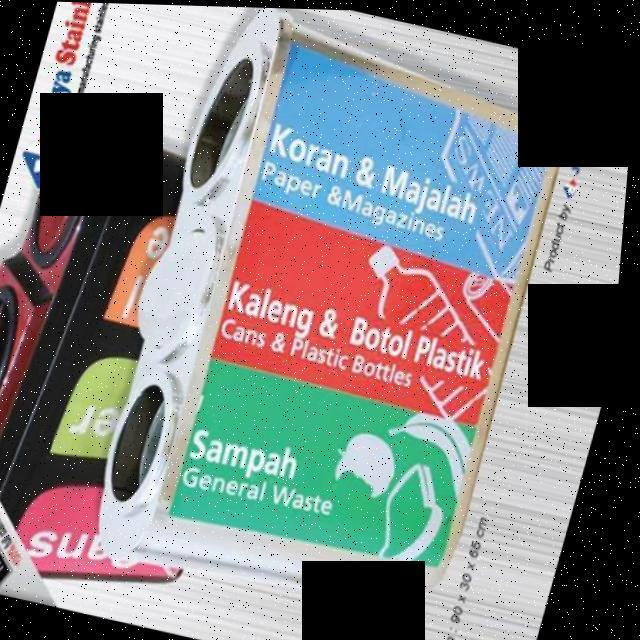bin: (62, 2, 600, 636), (0, 93, 191, 604)
